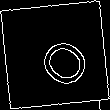O_NW: (21, 22, 89, 88)
